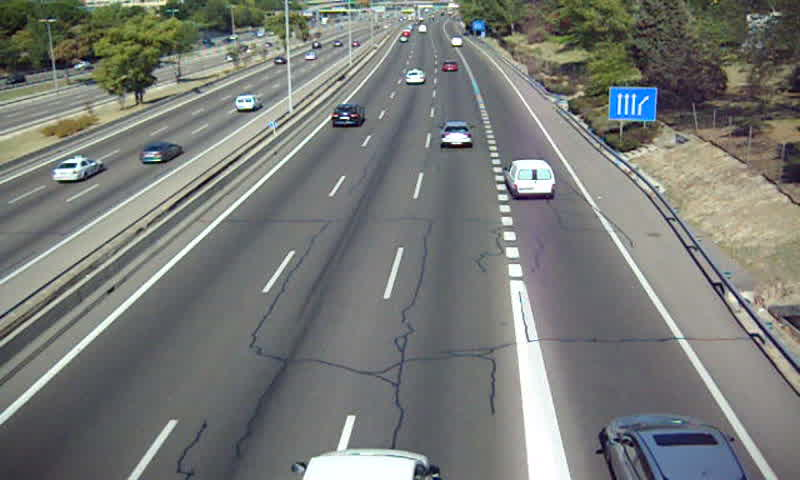car: (605, 414, 744, 480), (331, 103, 365, 127), (440, 123, 472, 148), (404, 68, 426, 86), (443, 60, 459, 72)
van: (505, 160, 554, 199)
